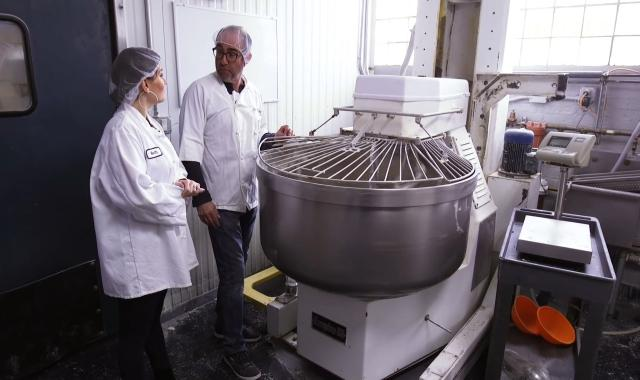hairnet: (112, 43, 162, 105), (210, 24, 253, 63)
